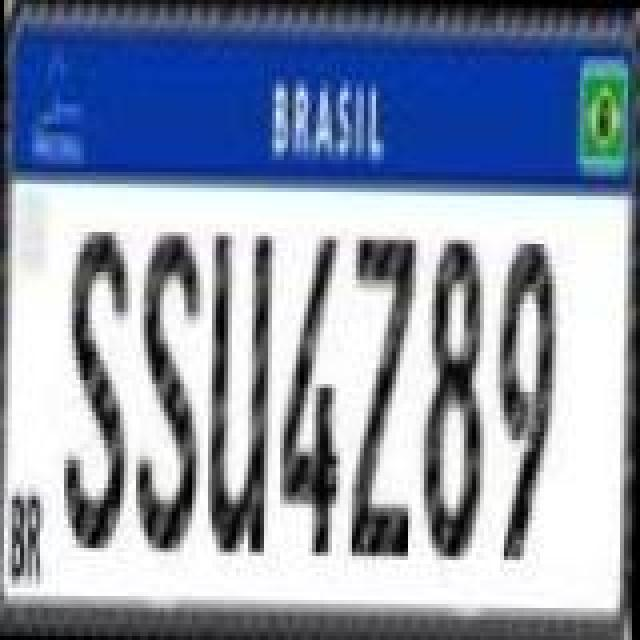4: (278, 226, 346, 562)
8: (418, 228, 486, 564)
9: (490, 232, 558, 568)
S: (136, 224, 208, 560), (66, 226, 134, 550)
U: (206, 224, 274, 560)
Z: (350, 228, 418, 564)
